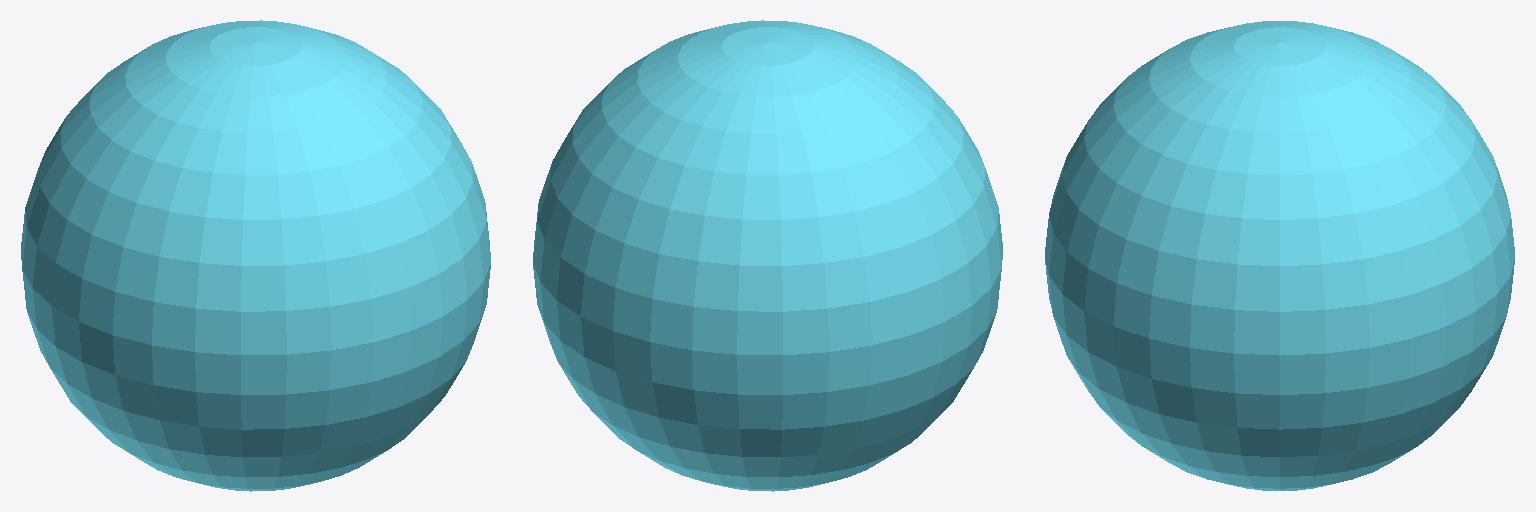
robot.urdf — pbot:
<?xml version='1.0' encoding='utf-8'?>
<robot name="pbot">

    <link name="link0">
      <inertial>
        <origin xyz="0 0 0.0" rpy="0 0 0" />
        <mass value="4" />
        <inertia ixx="0.4" iyy="0.4" izz="0.4" ixy="0" ixz="0" iyz="0" />
      </inertial>
    </link>
    <link name="link1">
      <inertial>
        <origin xyz="0 0 -0.0" rpy="0 -0 0" />
        <mass value="1" />
        <inertia ixx="0.3" iyy="0.3" izz="0.3" ixy="0" ixz="0" iyz="0" />
      </inertial>
      <visual>
        <geometry>
          <sphere radius="0.04"/>
        </geometry>
        <material name="material_blue">
          <color rgba="0.50 0.92 1.00 1.0" />
        </material>
      </visual>
      <collision>
        <geometry>
          <sphere radius="0.04"/>
        </geometry>
      </collision>
    </link>
   
    <joint name="joint1" type="prismatic">
      <safety_controller k_position="100.0" k_velocity="40.0" soft_lower_limit="-2.8973" soft_upper_limit="2.8973"/>
      <origin rpy="0 0 0" xyz="0 0 0.35"/>
      <parent link="link0"/>
      <child link="link1"/>
      <axis xyz="0 0 1"/>
      <limit effort="87" lower="-2.8973" upper="2.8973" velocity="2.1750"/>
    </joint>
</robot>

--- Render facts (derived) ---
3 views of the same robot in one strip: view 1: azimuth 30°, elevation 25°; view 2: azimuth 150°, elevation 25°; view 3: azimuth 270°, elevation 25° (orthographic).
Robot: pbot — 2 links, 1 joints (1 prismatic); root link link0; default pose: all joints at 0.
Links seen in each view (by area): view 1: link1; view 2: link1; view 3: link1.
Boxes of the visible links, bbox=[...] form: link1: bbox=[21, 20, 490, 491]; link1: bbox=[533, 20, 1002, 491]; link1: bbox=[1045, 21, 1514, 490].
Size in the robot's own frame: 0.08 by 0.08 by 0.08 metres.
Geometry: primitives only (box / cylinder / sphere), no mesh files.